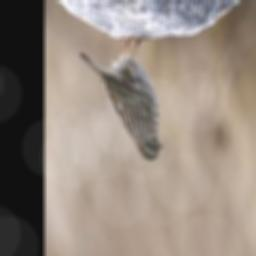Sparrow: (77, 33, 167, 167)
